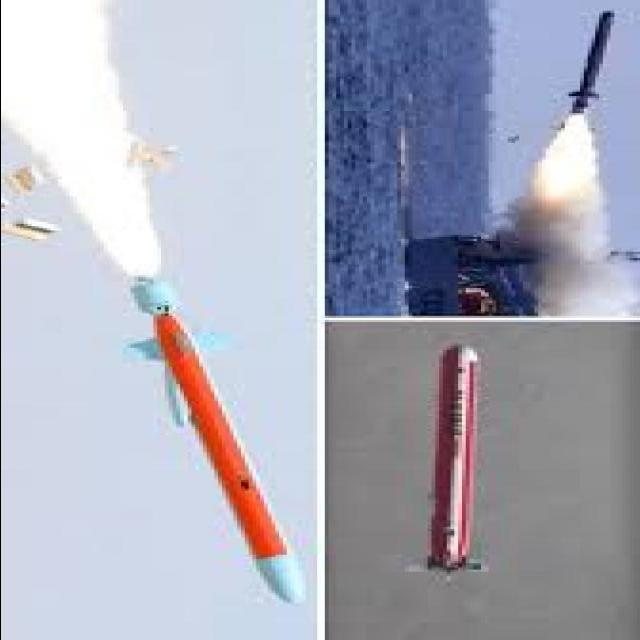Missile: (121, 272, 312, 605), (400, 331, 497, 607), (564, 5, 624, 124)
